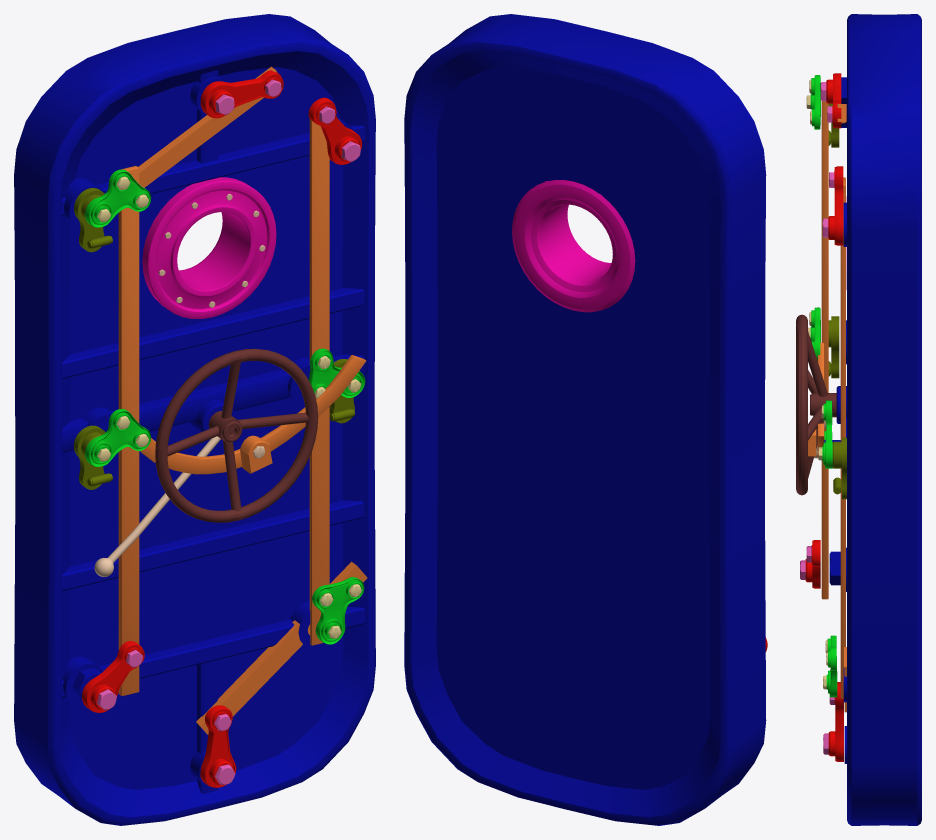
File: BulkheadDoor.fbx
3 views of the same model, side by side, from view 1: azimuth 30°, elevation 25°; view 2: azimuth 150°, elevation 25°; view 3: azimuth 270°, elevation 25° (orthographic). The views are drawn at different scales.
Visible parts, largest first — view 1: BulkheadDoor; view 2: BulkheadDoor; view 3: BulkheadDoor.
Boxes of the visible parts, x1,y1,x2,y2 form: BulkheadDoor: (14,14,375,825); BulkheadDoor: (404,14,767,825); BulkheadDoor: (796,14,921,825).
Size of the model in its own units: 81.87 by 180 by 28.
